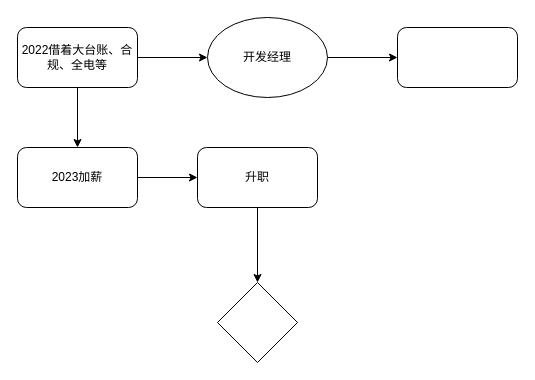
The diagram is 535 pixels wide and 380 high, and some of its shapes have lost their labels. Here are the shapes that lost their labels. From the top down, the box of each, then its label:
(396, 26, 518, 88): 失败 、 组织架构调整
(216, 282, 298, 362): 有戏？个人规划、其他外部对比
